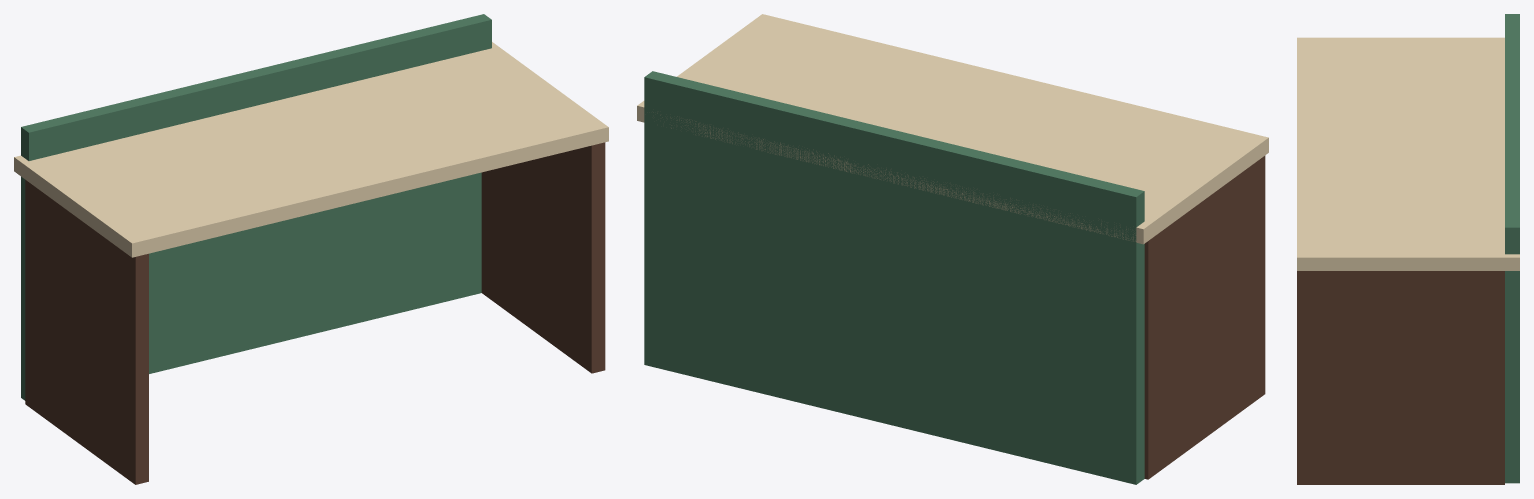
Rendered from noodle-shop.glb.
3 renders of one model, left to right at view 1: azimuth 30°, elevation 25°; view 2: azimuth 150°, elevation 25°; view 3: azimuth 270°, elevation 25°, orthographic. The views are drawn at different scales.
Visible parts, largest first — view 1: Canopy, Feature wall, Column, Column.001; view 2: Feature wall, Canopy, Column; view 3: Canopy, Column.001, Feature wall.
Boxes of the visible parts, left/top/right/bottom form: Canopy: left=14, top=42, right=608, bottom=257; Feature wall: left=21, top=14, right=491, bottom=400; Column: left=25, top=180, right=148, bottom=484; Column.001: left=481, top=142, right=605, bottom=373; Feature wall: left=644, top=71, right=1144, bottom=484; Canopy: left=637, top=14, right=1268, bottom=244; Column: left=1144, top=155, right=1265, bottom=479; Canopy: left=1297, top=37, right=1519, bottom=270; Column.001: left=1297, top=271, right=1504, bottom=484; Feature wall: left=1505, top=14, right=1519, bottom=483.
Size of the model in its own units: 7 by 3.8 by 3.
